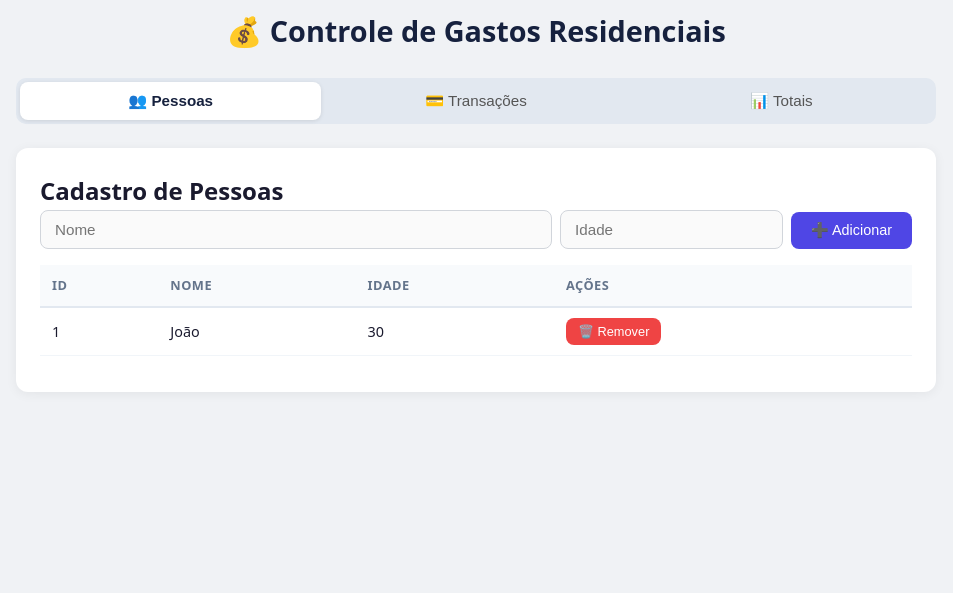
it: TransactionsTab — form submission › should show business rule error for minor + income
This screenshot has width=953, height=593.
Click the button "💳 Transações".
click(476, 101)  # box 325,82 -> 627,120
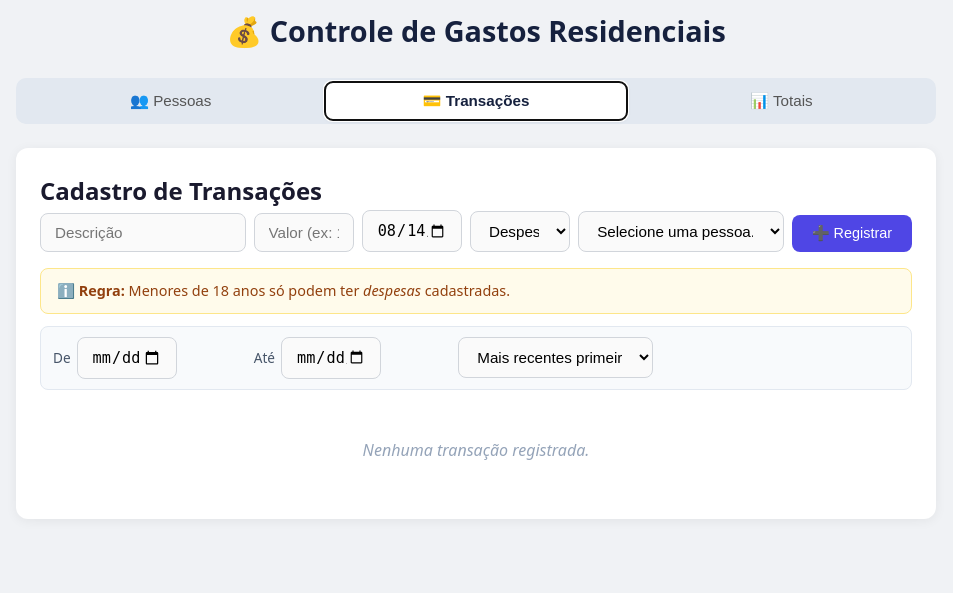
Now the field with placeholder "Descrição" is shown
Type "Mesada" into the field with placeholder "Descrição".
click(143, 233); type("Mesada")  # box 40,214 -> 246,252
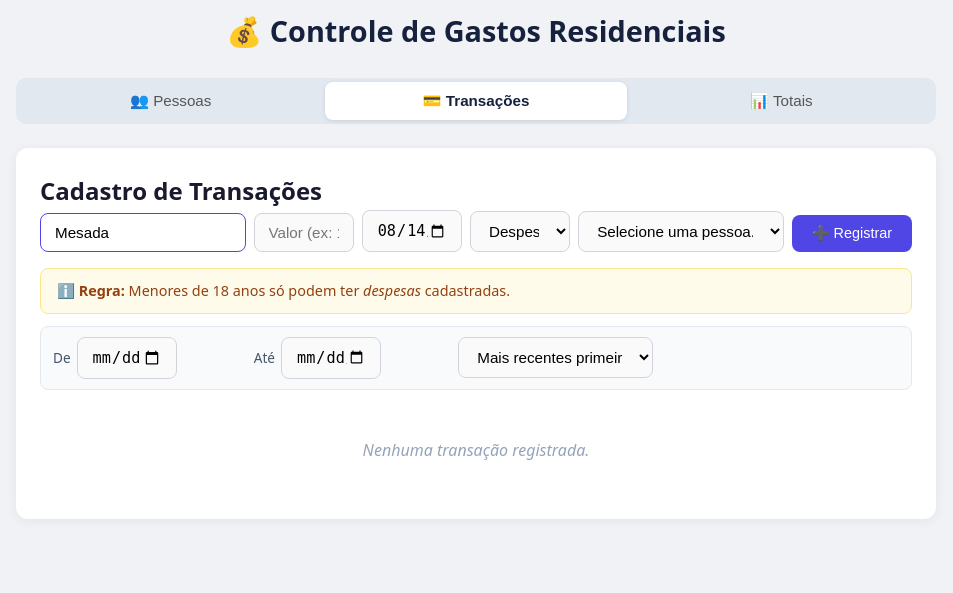
Type "100" into the field labelled "Valor".
click(304, 233); type("100")  # box 254,214 -> 354,252
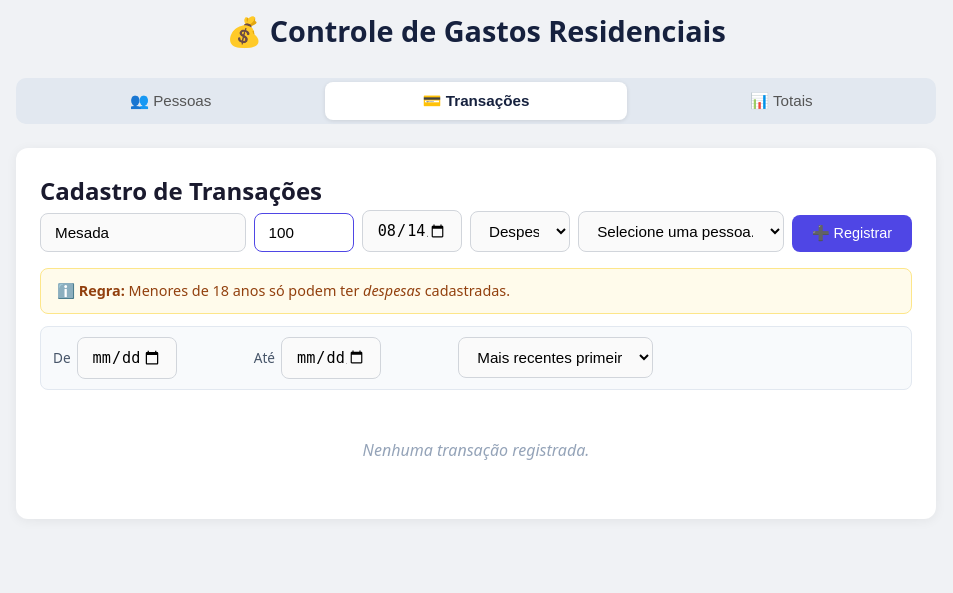
Select "Receita" in the dropdown named "Tipo" at (520,232), box 470,212 -> 570,252
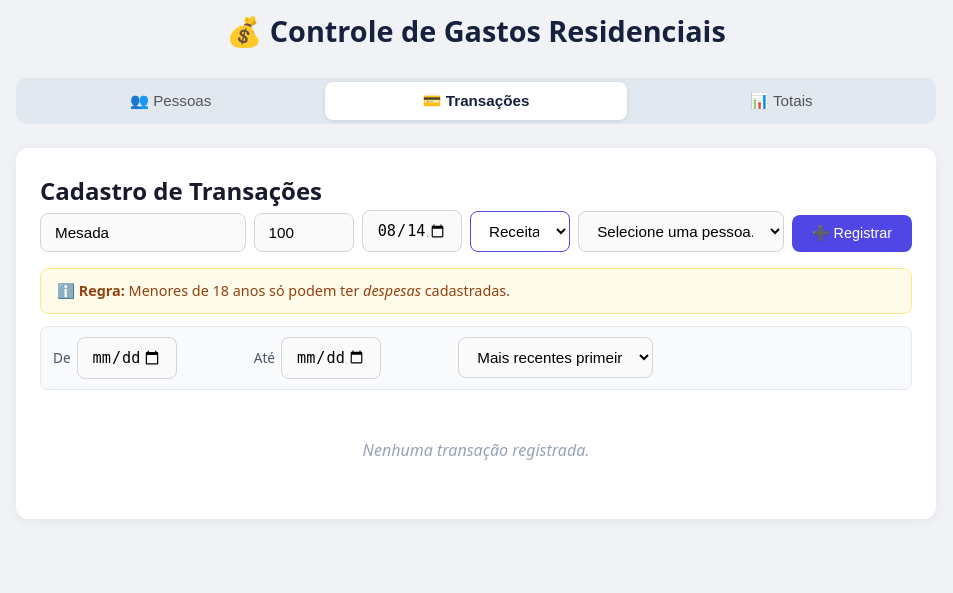
Select "João (30a)" in the dropdown named "Pessoa" at (681,232), box 578,212 -> 784,252
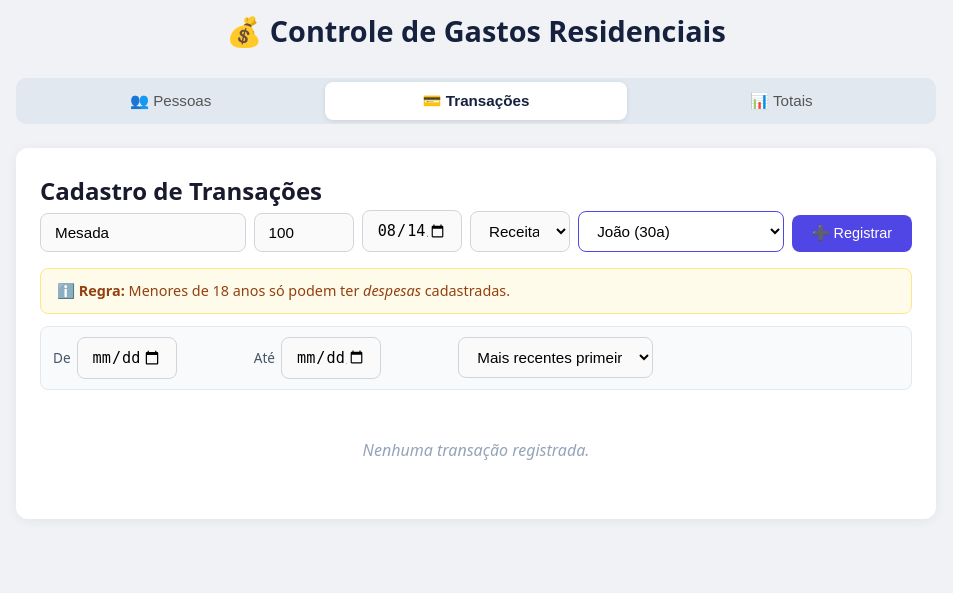
Click the button "➕ Registrar".
click(852, 234)  # box 792,216 -> 912,252
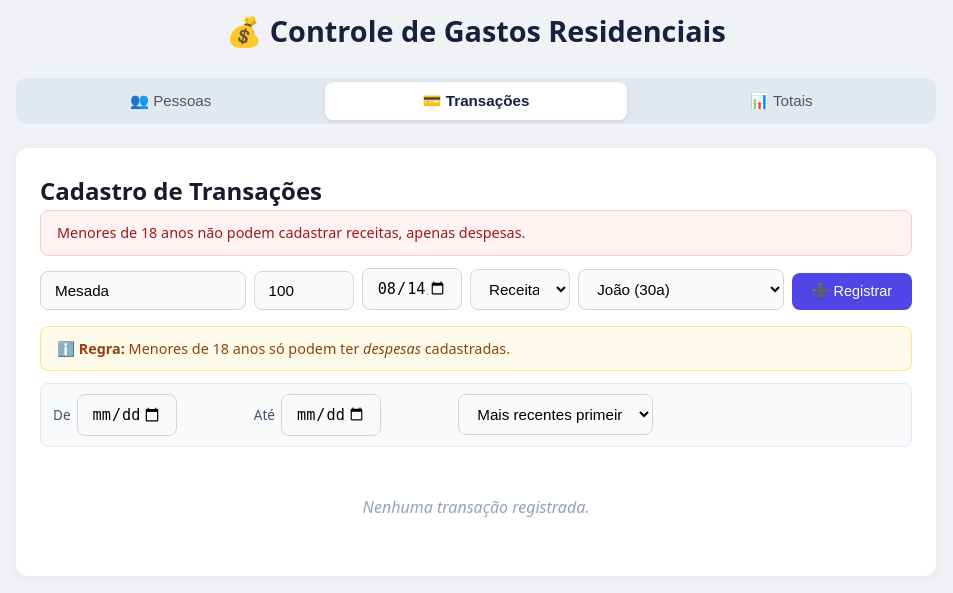
Now the text "Menores de 18 anos não podem cadastrar receitas, apenas despesas." is shown, box 40,210 -> 912,256
